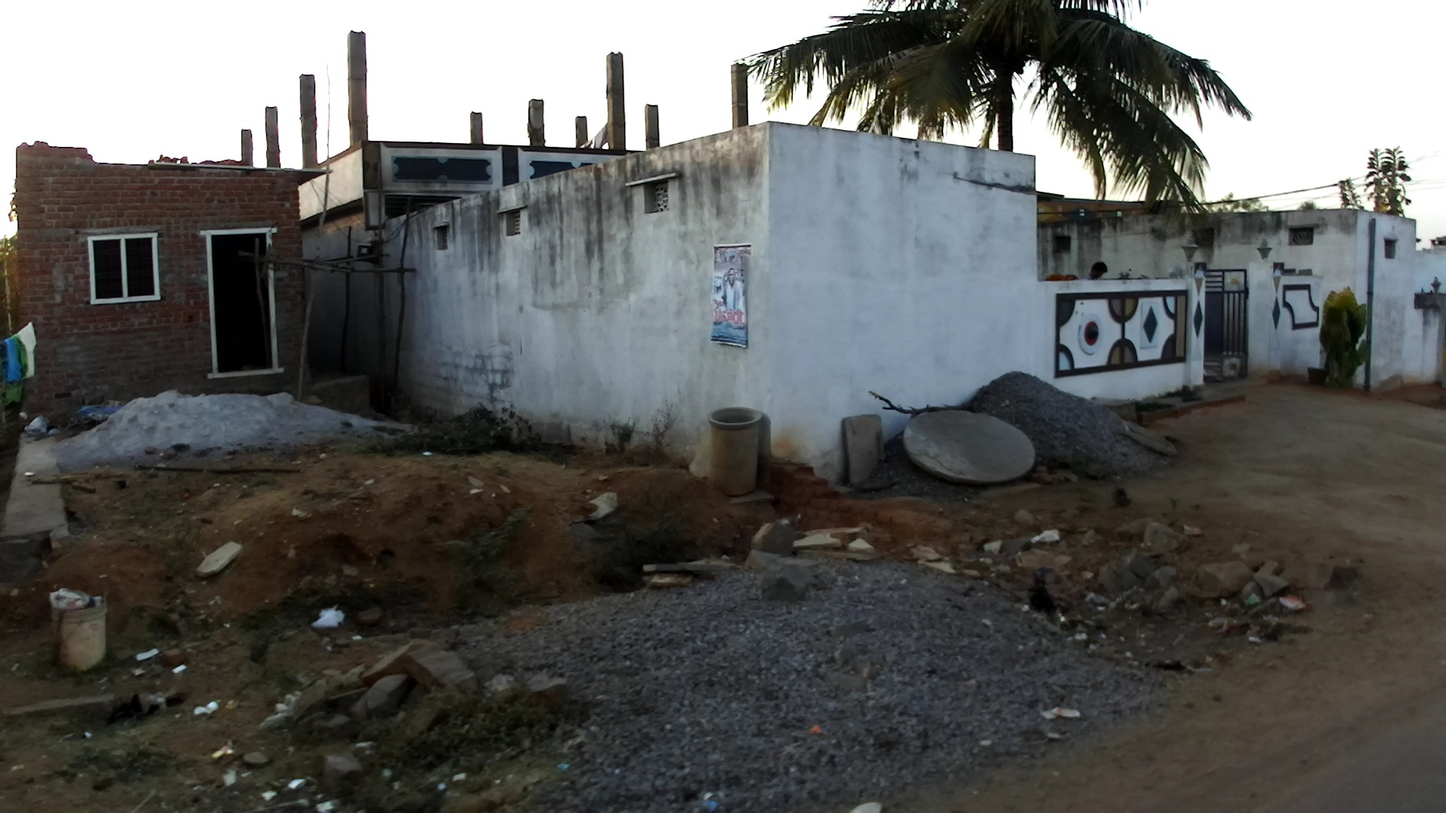person: (1083, 260, 1109, 280)
